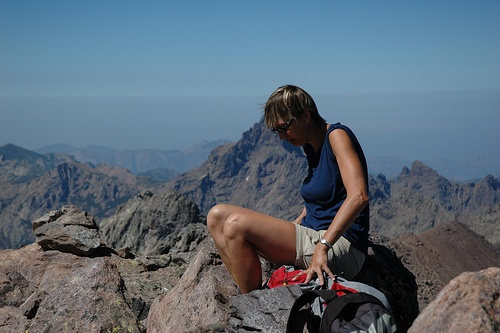head: (263, 85, 321, 150)
person: (204, 77, 405, 319)
